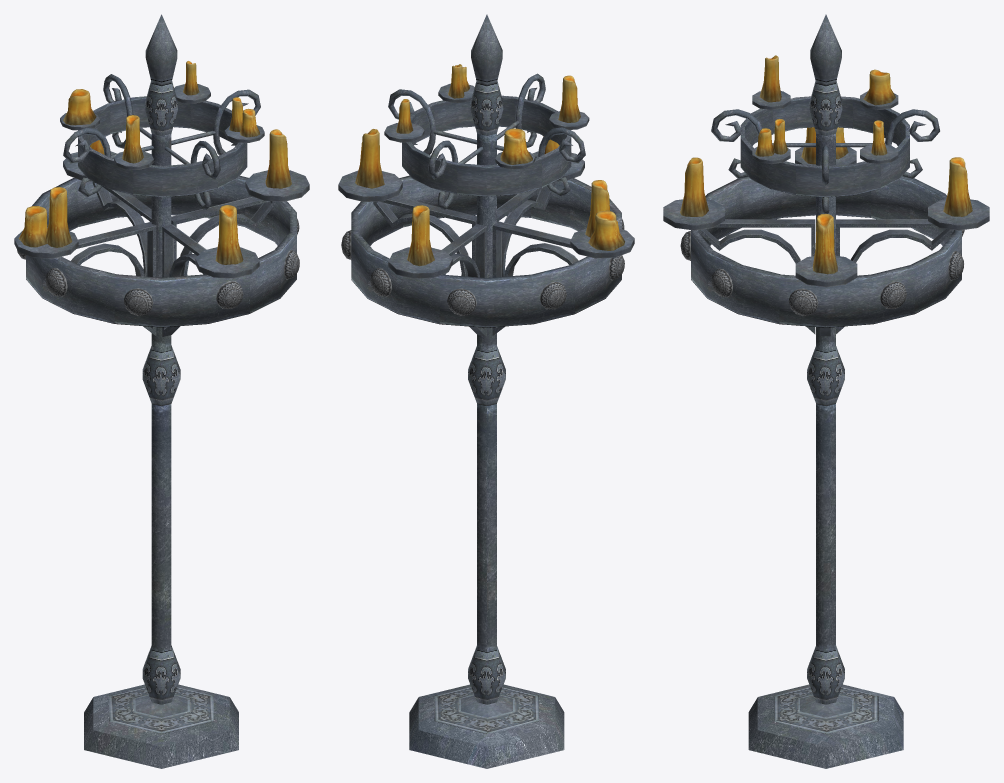
File: candle holder_2.FBX
3 renders of one model, left to right at view 1: azimuth 30°, elevation 25°; view 2: azimuth 150°, elevation 25°; view 3: azimuth 270°, elevation 25°, orthographic.
Visible parts, largest first — view 1: Cylinder03; view 2: Cylinder03; view 3: Cylinder03.
Boxes of the visible parts, bbox=[...] form: Cylinder03: bbox=[14, 14, 309, 768]; Cylinder03: bbox=[338, 14, 634, 768]; Cylinder03: bbox=[663, 14, 989, 768].
Size of the model in its own units: 150 by 357 by 147.
2 materials, 2 textured.
